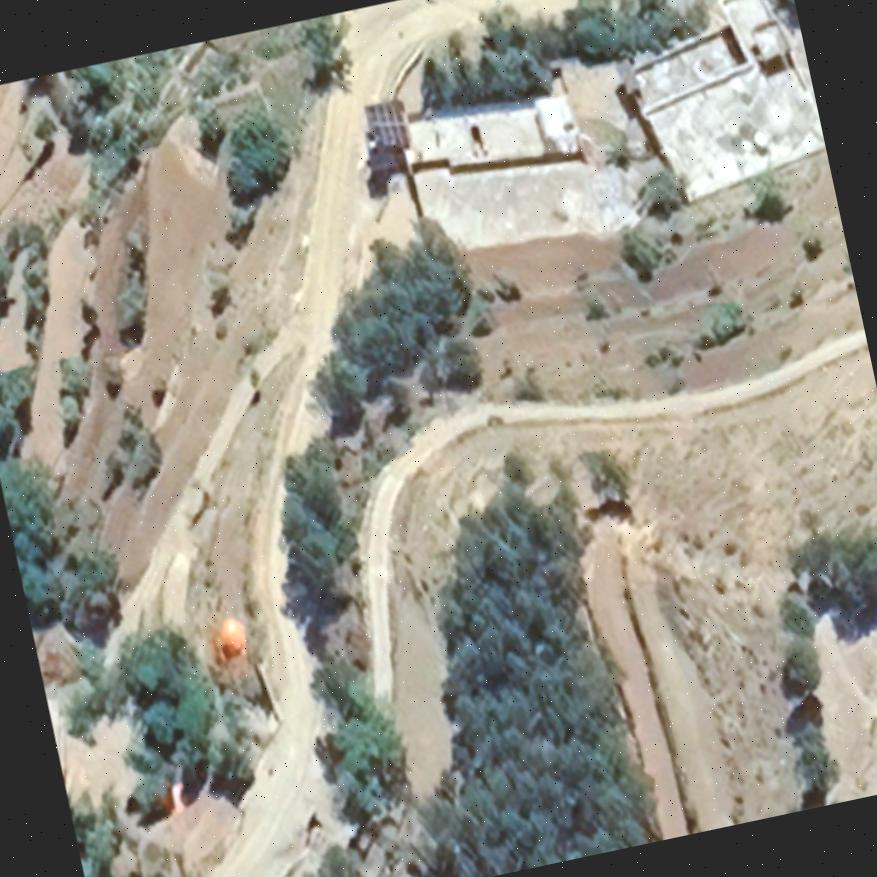Solarpanel: (361, 93, 412, 154)
